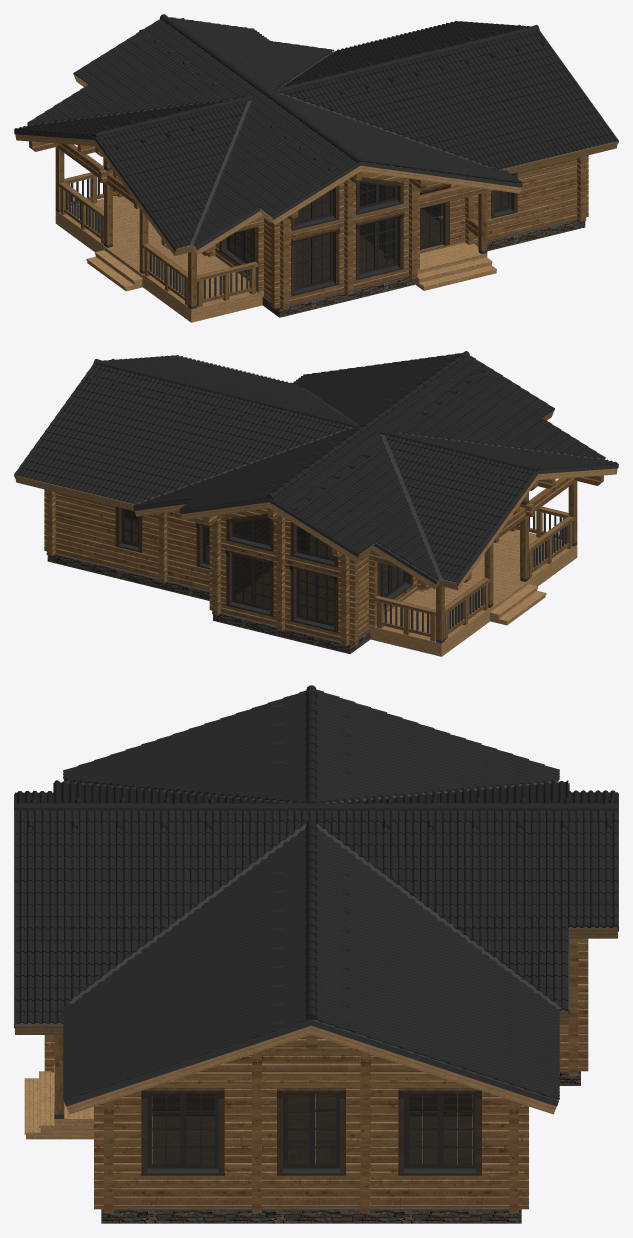
File: house-v2.glb
3 views of the same model, one above another, from view 1: azimuth 30°, elevation 25°; view 2: azimuth 150°, elevation 25°; view 3: azimuth 270°, elevation 25° (orthographic). The views are drawn at different scales.
Parts seen in each view (by area): view 1: Material58 (×45), Material12 (×7), Material14, Material19, Material23, Material54, Material15, Material22, Material60, Material13, Material6, Material7 (+2 smaller); view 2: Material58 (×44), Material12 (×6), Material14, Material19, Material23, Material54, Material15, Material22, Material13, Material7, Material60, Material6 (+2 smaller); view 3: Material58 (×44), Material12 (×5), Material23, Material14, Material6, Material7, Material13, Material60, Material22, Material15, Material11, Material5 (+1 smaller).
Part boxes in pixels (x1,y1,x2,y2): Material58 (×45): (14, 14, 618, 248); Material12 (×7): (29, 141, 588, 310); Material14: (15, 74, 617, 322); Material19: (55, 147, 487, 307); Material23: (228, 182, 508, 287); Material54: (59, 195, 257, 309); Material15: (28, 51, 617, 299); Material22: (219, 172, 517, 294); Material60: (14, 23, 618, 251); Material13: (142, 181, 511, 289); Material6: (230, 191, 507, 286); Material7: (113, 189, 585, 317); Material58 (×44): (14, 351, 618, 582); Material12 (×6): (44, 475, 603, 646); Material14: (15, 410, 617, 656); Material19: (374, 481, 577, 641); Material23: (124, 509, 404, 623); Material54: (375, 529, 573, 642); Material15: (15, 387, 604, 633); Material22: (115, 506, 413, 630); Material13: (121, 508, 406, 626); Material7: (47, 523, 519, 653); Material60: (14, 385, 618, 585); Material6: (125, 520, 402, 622); Material58 (×44): (14, 685, 617, 1100); Material12 (×5): (44, 938, 588, 1213); Material23: (152, 1094, 471, 1165); Material14: (15, 928, 617, 1138); Material6: (152, 1094, 472, 1164); Material7: (101, 1072, 580, 1223); Material13: (147, 1094, 475, 1167); Material60: (14, 693, 618, 1106); Material22: (141, 1069, 481, 1173); Material15: (15, 780, 617, 1100); Material11: (141, 1168, 481, 1175); Material5: (52, 1071, 580, 1210).
Bounding box in the file's own units: 15.84 × 5.18 × 12.24.
21 materials, 11 textured.
